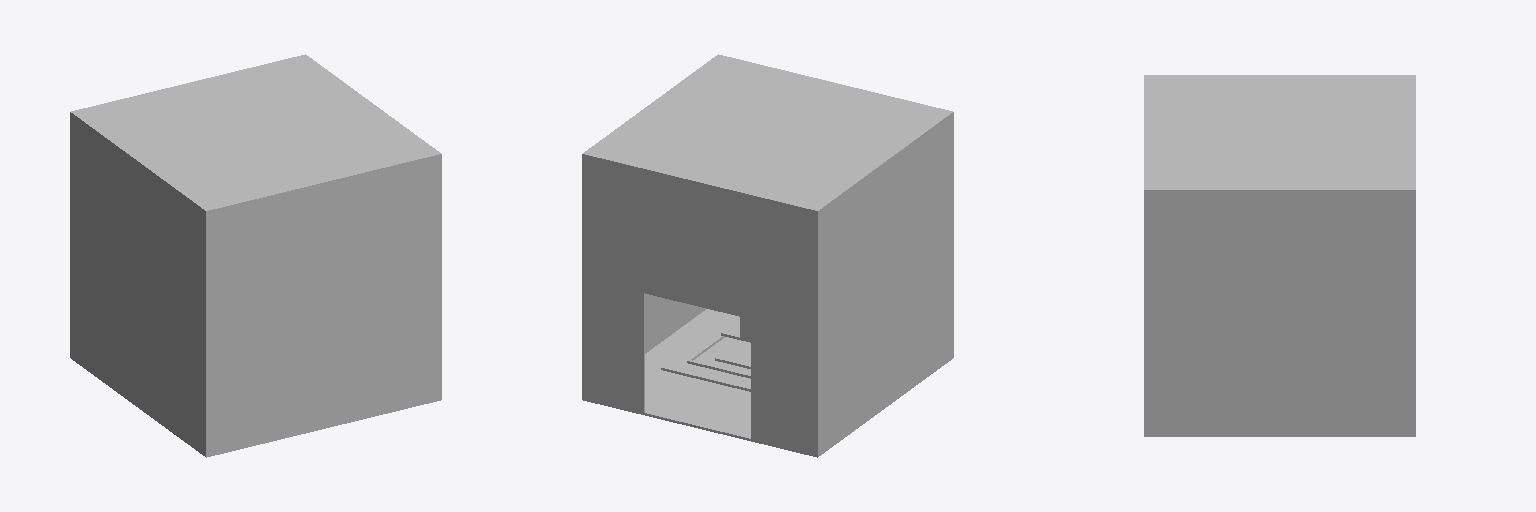
The model's file is portal.obj.
3 views of the same model, side by side, from view 1: azimuth 30°, elevation 25°; view 2: azimuth 150°, elevation 25°; view 3: azimuth 270°, elevation 25° (orthographic).
Parts seen in each view (by area): view 1: object 1; view 2: object 1; view 3: object 1.
Part boxes in pixels (x1,y1,x2,y2): object 1: (70,54,441,457); object 1: (582,54,953,457); object 1: (1144,75,1415,436).
Bounding box in the file's own units: 9.9 × 9.9 × 9.9.